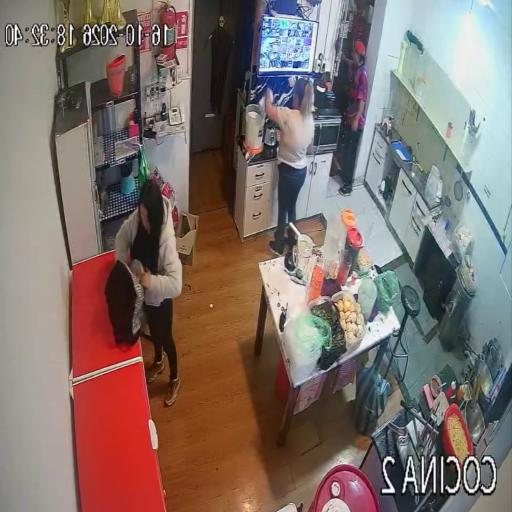Balde: (244, 99, 265, 155)
Cernidor: (289, 223, 314, 261)
Envase Ketchup: (446, 381, 456, 399)
Envase Llajua: (430, 375, 443, 399)
Jarra1: (345, 228, 363, 273)
Jarra2: (340, 209, 357, 246)
Jarra3: (323, 212, 343, 264), (358, 278, 377, 321)
Jarra4: (425, 165, 443, 205)
JarraLicuadora: (293, 234, 313, 280)
Licuadora2: (264, 119, 276, 147)
Microondas: (313, 116, 341, 154)
Persona1: (339, 40, 368, 194)
Persona2: (265, 78, 314, 255)
Persona4: (116, 181, 181, 405)
Taper: (356, 247, 373, 276)
Taper2: (331, 291, 366, 353)
Taper3: (308, 296, 331, 314)
Taper4: (283, 312, 321, 384)
